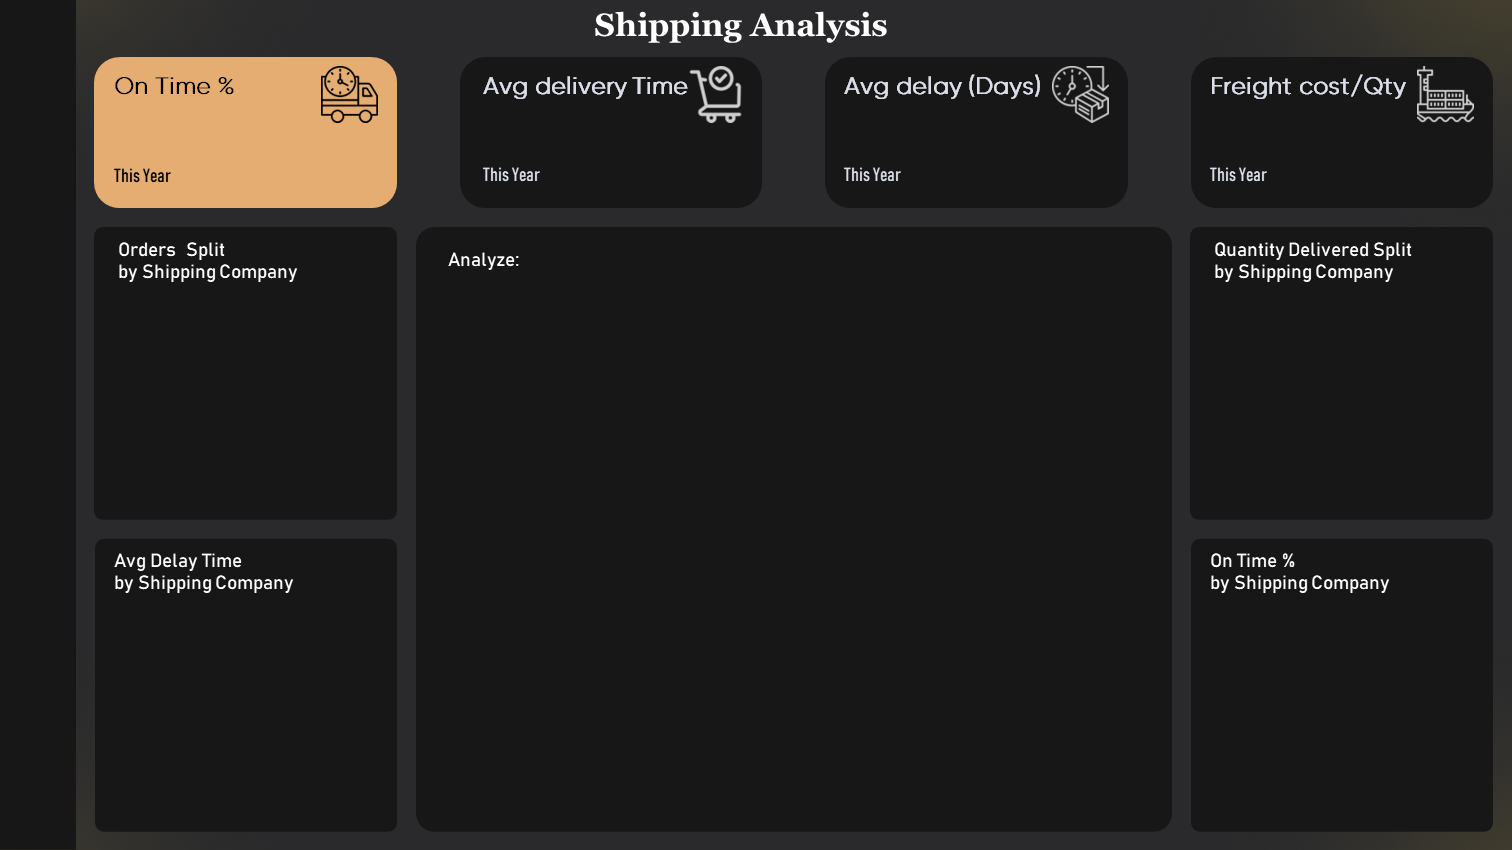

Layout of this report page (visuals, bound fields, positions):
{"tool":"powerbi","page":{"name":"Shipping Analysis","canvas":[1500,850],"ordinal":3},"visuals":[{"type":"card","fields":{"Values":["Key Measures.On Time %"]},"box":[88,105,300,50],"z":0},{"type":"card","fields":{"Values":["Key Measures.Avg Time to Delay"]},"box":[450,105,300,50],"z":1000},{"type":"decompositionTreeVisual","fields":{"ExplainBy":["customers.country","shippers.companyName","customers.city","customers.companyName"],"Analyze":["Key Measures.On Time %"]},"box":[425,300,720,495],"z":1000,"group":"g1"},{"type":"card","fields":{"Values":["Key Measures.Avg Delay Time"]},"box":[820,105,300,50],"z":2000},{"type":"areaChart","fields":{"Y":["Key Measures.Avg Time to Deliver"],"Category":["date.Date.Variation.Date Hierarchy.Year","date.Date.Variation.Date Hierarchy.Quarter","date.Date.Variation.Date Hierarchy.Month"]},"box":[595,120,150,80],"z":3000},{"type":"areaChart","fields":{"Y":["Key Measures.Avg Delay Time"],"Category":["date.Date.Variation.Date Hierarchy.Year","date.Date.Variation.Date Hierarchy.Quarter","date.Date.Variation.Date Hierarchy.Month"]},"box":[960,120,150,80],"z":4000},{"type":"card","fields":{"Values":["Key Measures.Freight Per Quantity"]},"box":[1185,105,300,50],"z":5000},{"type":"areaChart","fields":{"Y":["Key Measures.Freight Per Quantity"],"Category":["date.Date.Variation.Date Hierarchy.Year","date.Date.Variation.Date Hierarchy.Quarter","date.Date.Variation.Date Hierarchy.Month"]},"box":[1326,120,150,80],"z":6000},{"type":"donutChart","fields":{"Category":["shippers.companyName"],"Y":["Key Measures.Number of Orders"]},"box":[98.6,308.6,280,200],"z":7000},{"type":"stackedAreaChart","fields":{"Category":["date.Date.Variation.Date Hierarchy.Year","date.Date.Variation.Date Hierarchy.Quarter","date.Date.Variation.Date Hierarchy.Month"],"Y":["Key Measures.On Time %"]},"box":[230,120,150,80],"z":8000},{"type":"kpi","fields":{"TrendLine":["date.year"],"Indicator":["Key Measures.On Time %"],"Goal":["Key Measures.On Time % LY"]},"box":[88,157,230,50],"z":9000},{"type":"kpi","fields":{"Indicator":["Key Measures.Avg Time to Deliver"],"TrendLine":["date.year"],"Goal":["Key Measures.Avg Delivery Time LY"]},"box":[450,157,230,50],"z":10000},{"type":"kpi","fields":{"TrendLine":["date.year"],"Indicator":["Key Measures.Avg Delay Time"],"Goal":["Key Measures.Avg Delay LY"]},"box":[820,157,230,50],"z":11000},{"type":"kpi","fields":{"TrendLine":["date.year"],"Indicator":["Key Measures.Freight Per Quantity"],"Goal":["Key Measures.Freight Cost per Qty LY"]},"box":[1185,157,230,50],"z":12000},{"type":"donutChart","fields":{"Category":["shippers.companyName"],"Y":["Key Measures.Total Quantity"]},"box":[1197.1,308.6,280,200],"z":13000},{"type":"clusteredBarChart","fields":{"Category":["shippers.companyName"],"Y":["Key Measures.Avg Delay Time"]},"box":[98.6,620,280,200],"z":14000},{"type":"clusteredBarChart","fields":{"Category":["shippers.companyName"],"Y":["Key Measures.On Time %"]},"box":[1197.1,620,280,200],"z":15000},{"type":"group","id":"g1","title":"Bookmarks","box":[425,300,720,500],"z":16000},{"type":"bookmarkNavigator","box":[522.9,240,622.9,60],"z":17000},{"type":"image","box":[5.7,11.4,55.7,55.7],"z":18000},{"type":"image","box":[5.7,647.1,55.7,55.7],"z":19000},{"type":"image","box":[5.7,714.3,55.7,55.7],"z":20000},{"type":"image","box":[5.7,782.9,55.7,55.7],"z":21000}]}

Visuals, with their boxes in screenshot pixels (x1, y1, x2, y2), scaled from the page's 1500x850 canvas onto the 1512x850 screenshot:
card - Key Measures.On Time %: [89,105,391,155]
card - Key Measures.Avg Time to Delay: [454,105,756,155]
decompositionTreeVisual - customers.country x shippers.companyName: [428,300,1154,795]
card - Key Measures.Avg Delay Time: [827,105,1129,155]
areaChart - Key Measures.Avg Time to Deliver x date.Date.Variation.Date Hierarchy.Year: [600,120,751,200]
areaChart - Key Measures.Avg Delay Time x date.Date.Variation.Date Hierarchy.Year: [968,120,1119,200]
card - Key Measures.Freight Per Quantity: [1194,105,1497,155]
areaChart - Key Measures.Freight Per Quantity x date.Date.Variation.Date Hierarchy.Year: [1337,120,1488,200]
donutChart - shippers.companyName x Key Measures.Number of Orders: [99,309,382,509]
stackedAreaChart - date.Date.Variation.Date Hierarchy.Year x date.Date.Variation.Date Hierarchy.Quarter: [232,120,383,200]
kpi - date.year x Key Measures.On Time %: [89,157,321,207]
kpi - Key Measures.Avg Time to Deliver x date.year: [454,157,685,207]
kpi - date.year x Key Measures.Avg Delay Time: [827,157,1058,207]
kpi - date.year x Key Measures.Freight Per Quantity: [1194,157,1426,207]
donutChart - shippers.companyName x Key Measures.Total Quantity: [1207,309,1489,509]
clusteredBarChart - shippers.companyName x Key Measures.Avg Delay Time: [99,620,382,820]
clusteredBarChart - shippers.companyName x Key Measures.On Time %: [1207,620,1489,820]
"Bookmarks" group: [428,300,1154,800]
bookmarkNavigator: [527,240,1155,300]
image: [6,11,62,67]
image: [6,647,62,703]
image: [6,714,62,770]
image: [6,783,62,839]
